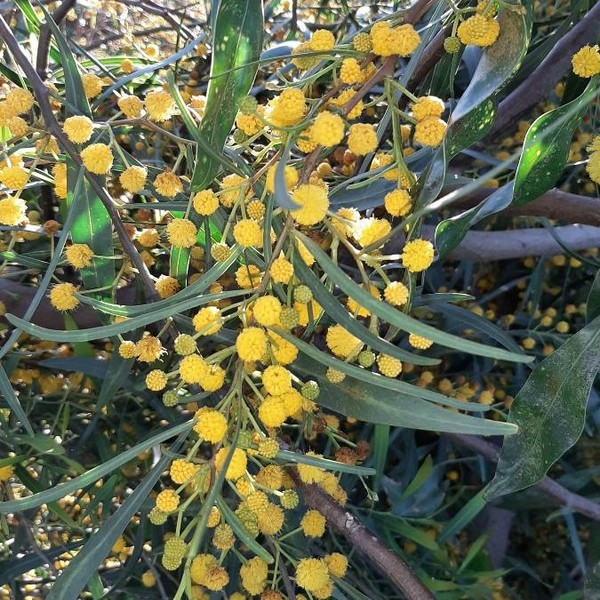obstacle: (48, 34, 507, 578)
